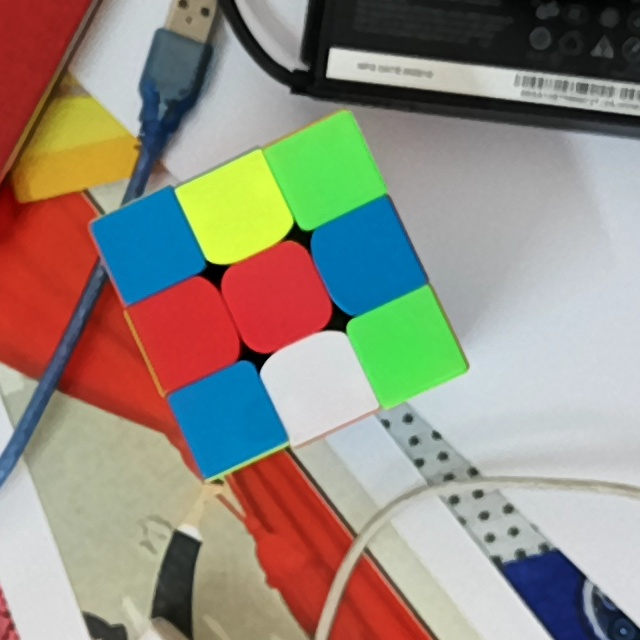tile: (239, 263, 314, 328), (334, 224, 403, 293), (375, 312, 442, 382), (153, 298, 221, 366), (292, 139, 360, 204), (284, 352, 350, 417), (196, 385, 262, 449), (118, 213, 181, 279), (205, 179, 271, 241)
